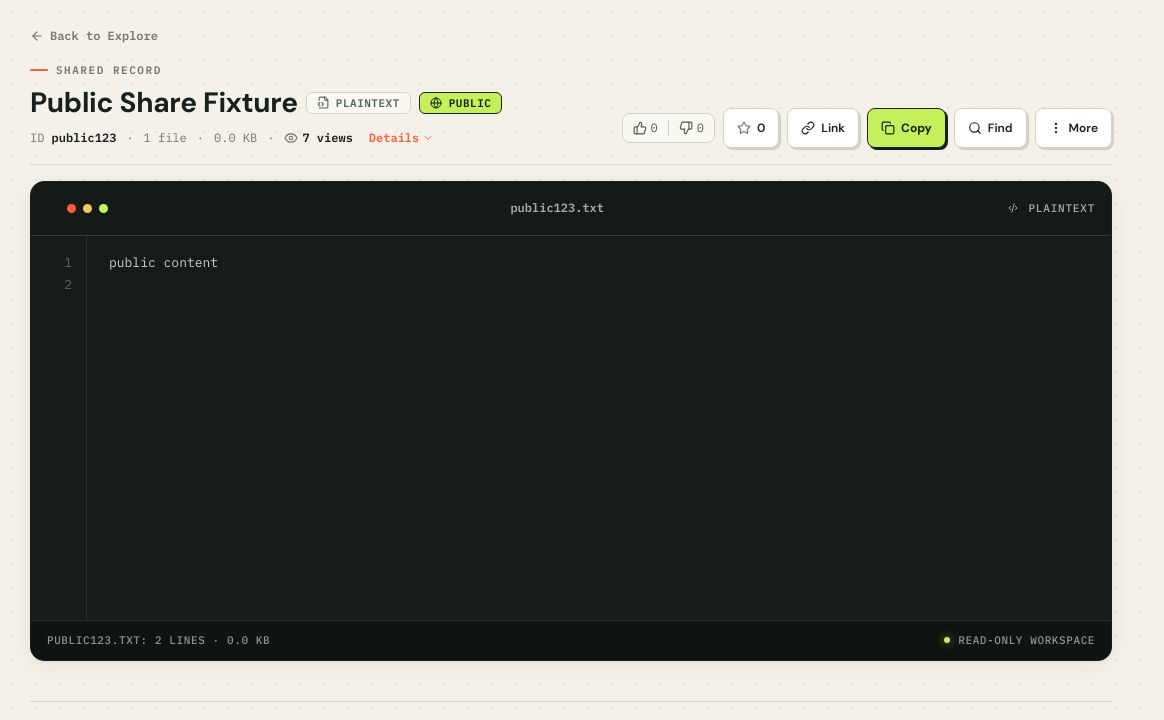
Test case: Sharing experience: primary copy-link and states › FE-SHARE-06: shows an explicit copied confirmation only after success
Step 1. Click the button named "copy link" → x=823, y=128, box [787, 108, 859, 148]
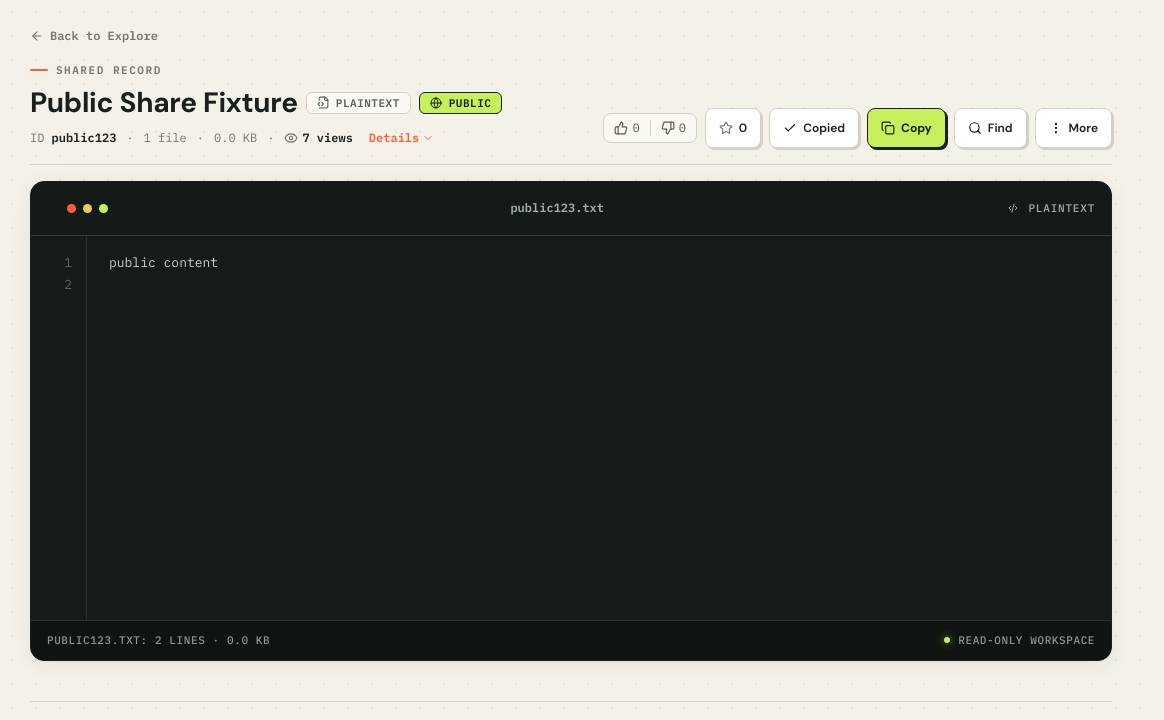
Now the button "Copied" is shown, box [803, 119, 845, 137]
